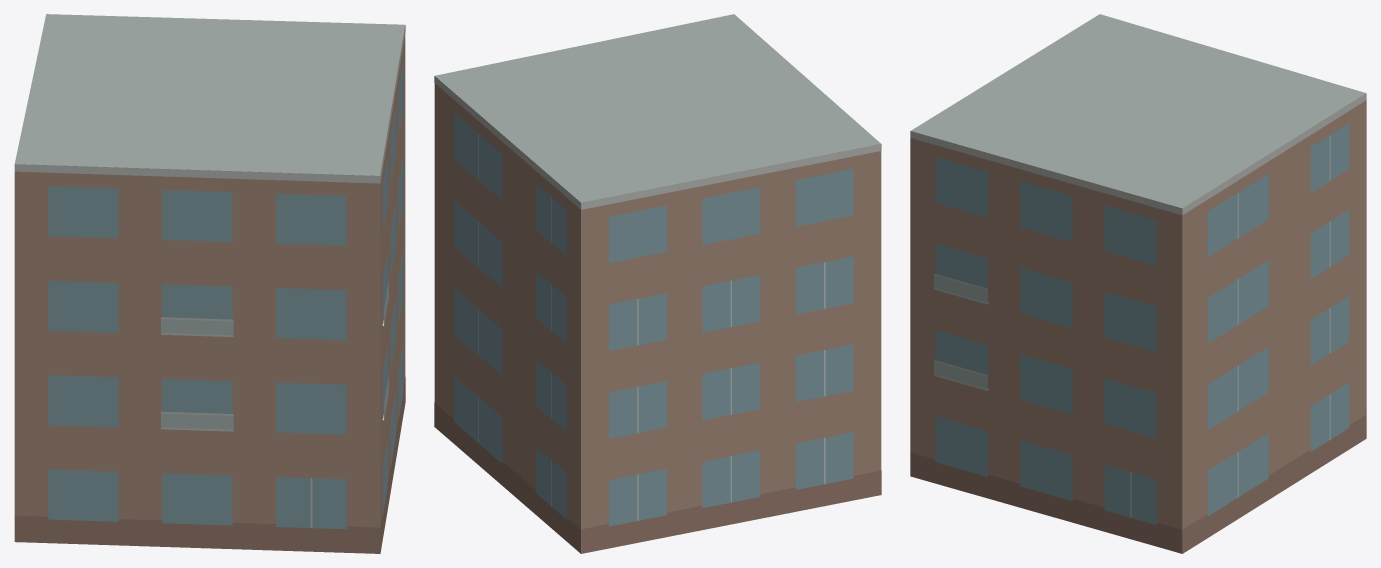
The model's file is survey-upis-32624769.glb.
3 renders of one model, left to right at view 1: azimuth 30°, elevation 25°; view 2: azimuth 150°, elevation 25°; view 3: azimuth 270°, elevation 25°, orthographic. The views are drawn at different scales.
Visible parts, largest first — view 1: survey-upis-32624769.tmp; view 2: survey-upis-32624769.tmp; view 3: survey-upis-32624769.tmp.
Part boxes in pixels (x1=…): survey-upis-32624769.tmp: x1=14, y1=14, x2=405, y2=553; survey-upis-32624769.tmp: x1=434, y1=14, x2=881, y2=553; survey-upis-32624769.tmp: x1=910, y1=14, x2=1366, y2=553.
Size of the model in its own units: 14.74 by 12.2 by 14.61.
